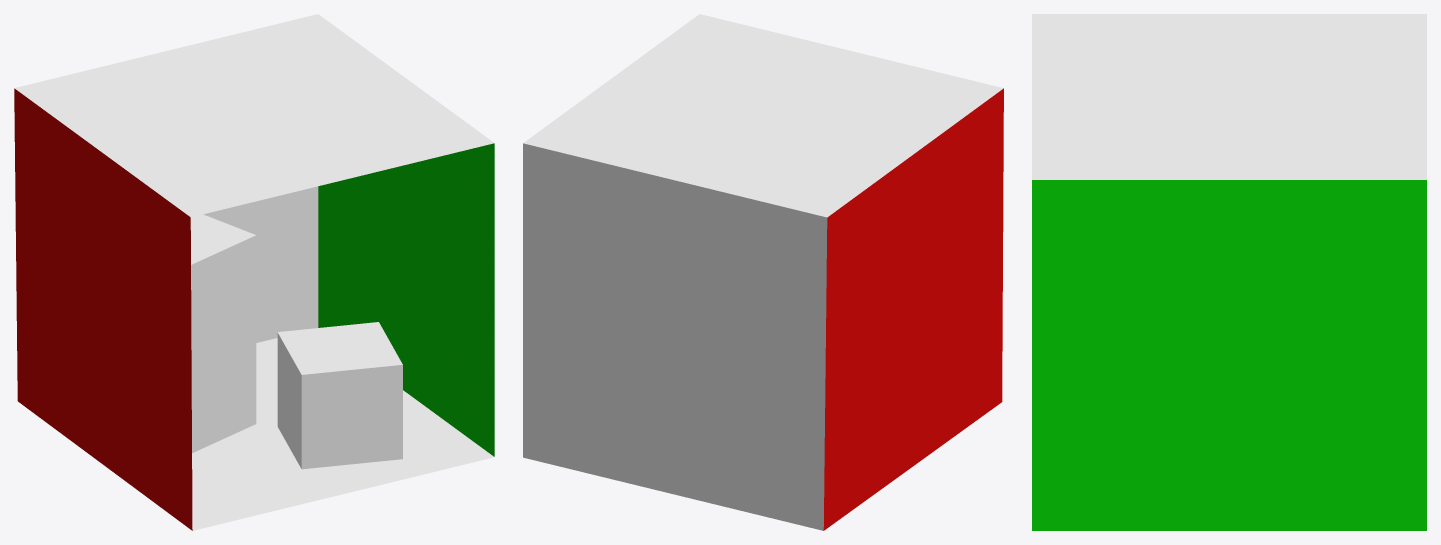
Rendered from Cycles.gltf.
3 views of the same model, side by side, from view 1: azimuth 30°, elevation 25°; view 2: azimuth 150°, elevation 25°; view 3: azimuth 270°, elevation 25° (orthographic). The views are drawn at different scales.
Visible parts, largest first — view 1: cornell_box, small_box, large_box; view 2: cornell_box; view 3: cornell_box.
Part boxes in pixels (x1=…): cornell_box: x1=14, y1=14, x2=494, y2=530; small_box: x1=277, y1=322, x2=402, y2=469; large_box: x1=190, y1=214, x2=256, y2=453; cornell_box: x1=523, y1=14, x2=1003, y2=530; cornell_box: x1=1032, y1=14, x2=1426, y2=530.
Bounding box in the file's own units: 556 × 549 × 559.
